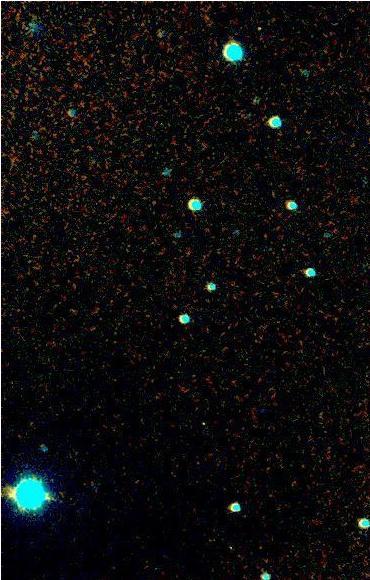star: (33, 483, 63, 513)
